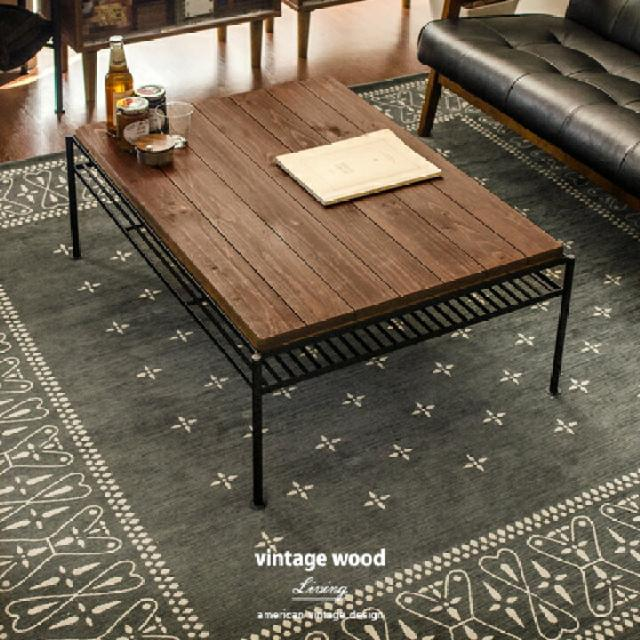vintage desk: (65, 76, 576, 508)
